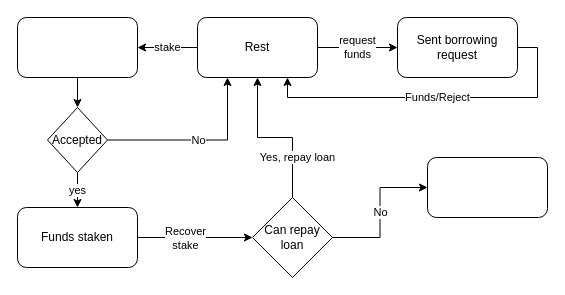
This 565x295 diagram has some shape labels left out. Each missing label, with the centre of its shape:
"Halted" belongs at (487,187).
"Sent stake request" belongs at (77,47).
